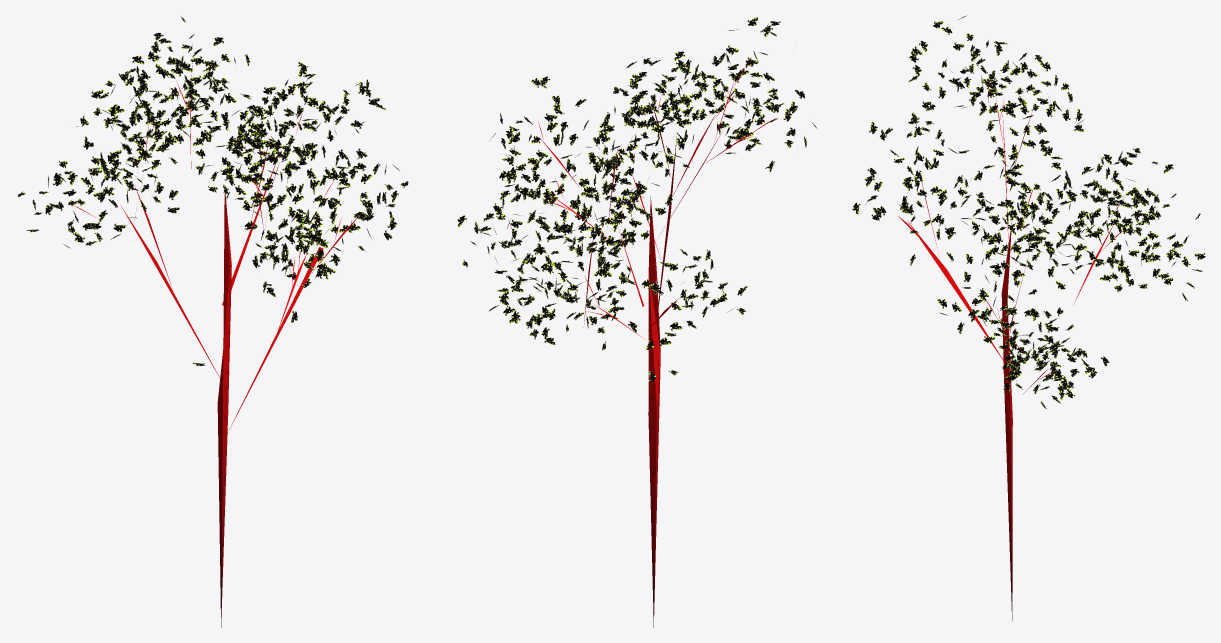
Rendered from birch_pale_v03_LOD2.glb.
3 renders of one model, left to right at view 1: azimuth 30°, elevation 25°; view 2: azimuth 150°, elevation 25°; view 3: azimuth 270°, elevation 25°, orthographic. The views are drawn at different scales.
Parts seen in each view (by area): view 1: birch_pale_v03_LOD2; view 2: birch_pale_v03_LOD2; view 3: birch_pale_v03_LOD2.
Boxes of the visible parts, box(x1,y1,x2,y2) form: birch_pale_v03_LOD2: box(18, 16, 408, 627); birch_pale_v03_LOD2: box(457, 17, 817, 627); birch_pale_v03_LOD2: box(852, 15, 1205, 620).
Size of the model in its own units: 11.91 by 20.26 by 11.39.
Materials: 2 (2 with a texture image).
